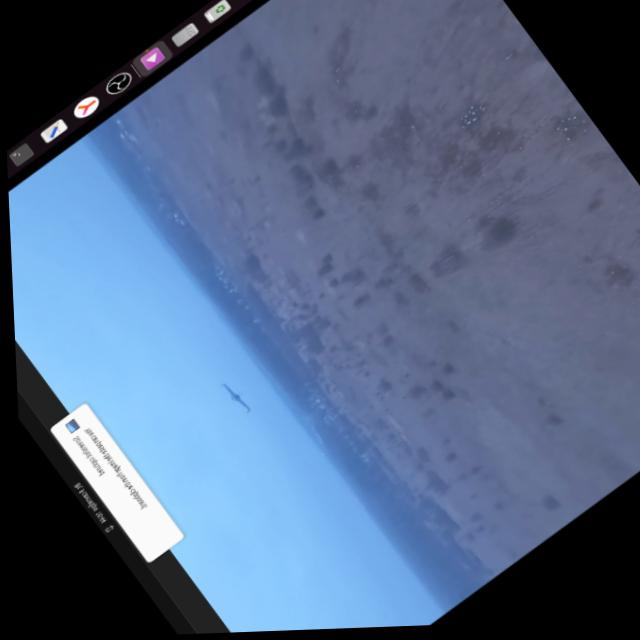planedrone: (208, 370, 262, 428)
